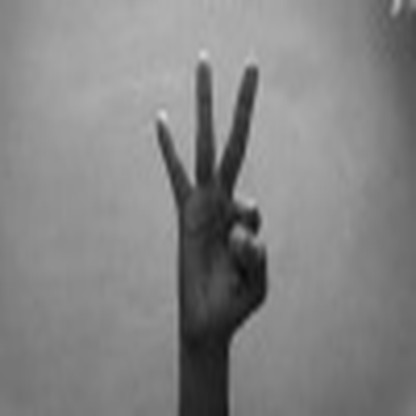f: (144, 39, 283, 338)
